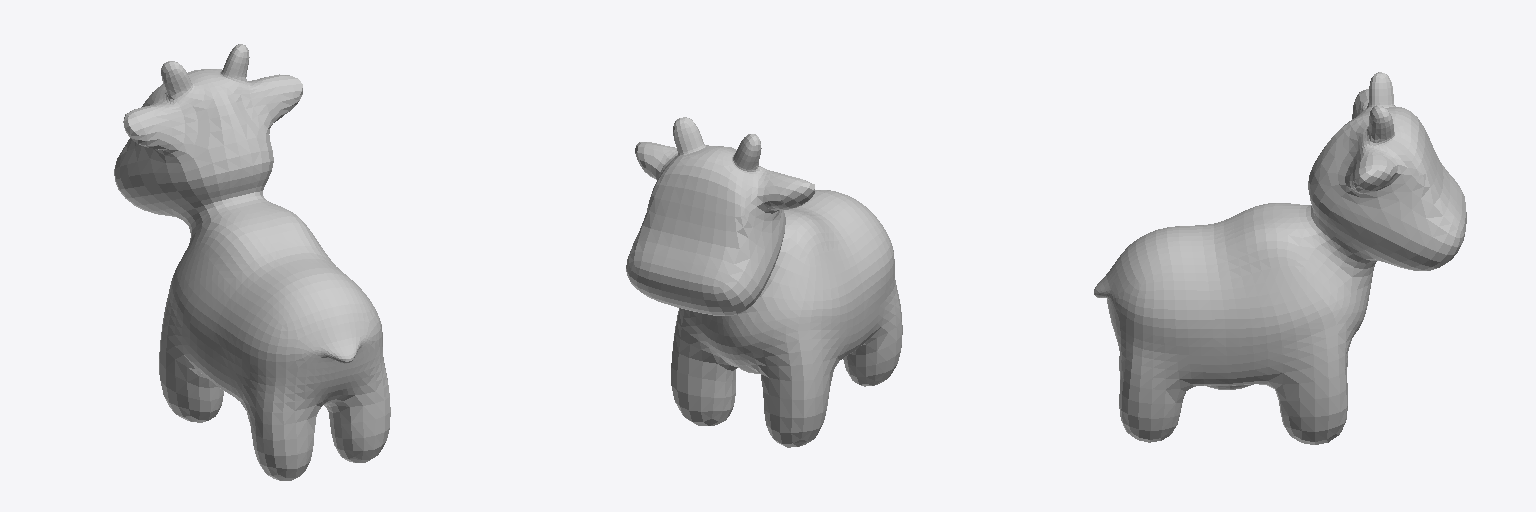
The model's file is spot.obj.
The picture shows the model from 3 angles: view 1: azimuth 30°, elevation 25°; view 2: azimuth 150°, elevation 25°; view 3: azimuth 270°, elevation 25°; orthographic projection.
Parts seen in each view (by area): view 1: spot_triangulated; view 2: spot_triangulated; view 3: spot_triangulated.
Boxes of the visible parts, box(x1,y1,x2,y2) form: spot_triangulated: box(114, 44, 390, 480); spot_triangulated: box(626, 117, 902, 447); spot_triangulated: box(1094, 72, 1466, 444).
Size of the model in its own units: 0.8499 by 1.52 by 1.55.